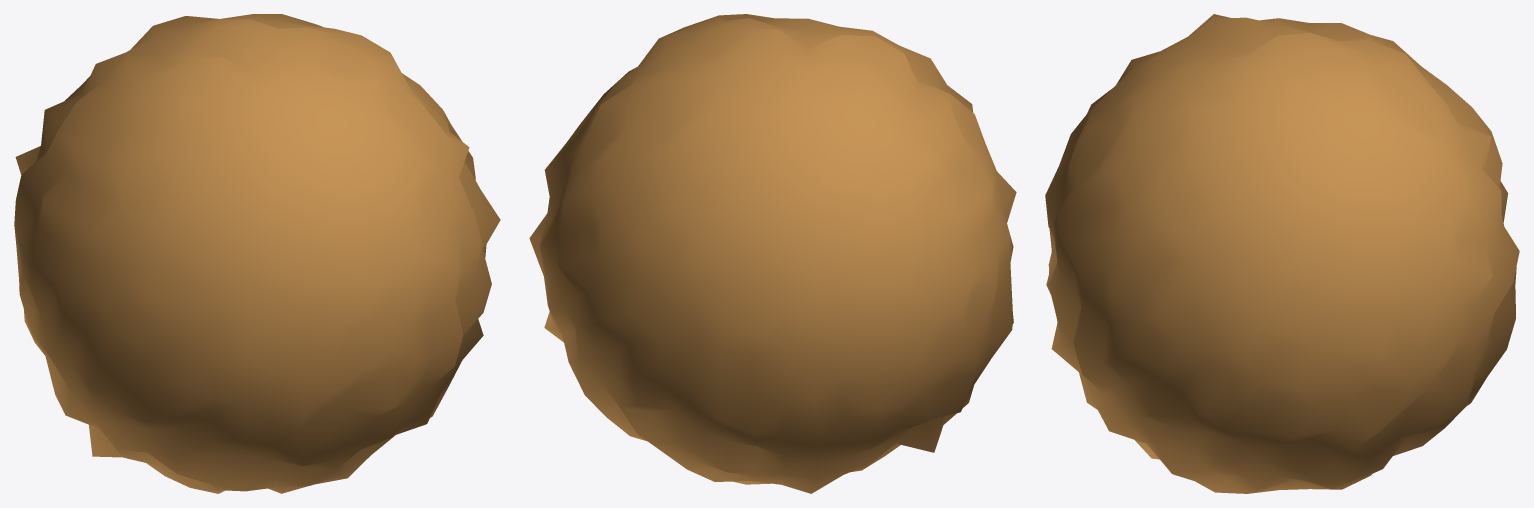
The picture shows the model from 3 angles, left to right: view 1: azimuth 30°, elevation 25°; view 2: azimuth 150°, elevation 25°; view 3: azimuth 270°, elevation 25°; orthographic projection.
Parts seen in each view (by area): view 1: world; view 2: world; view 3: world.
Part boxes in pixels (bbox=[...]): world: bbox=[14, 14, 500, 493]; world: bbox=[529, 14, 1016, 493]; world: bbox=[1045, 14, 1519, 493].
Bounding box in the file's own units: 20.59 × 20.57 × 20.14.
